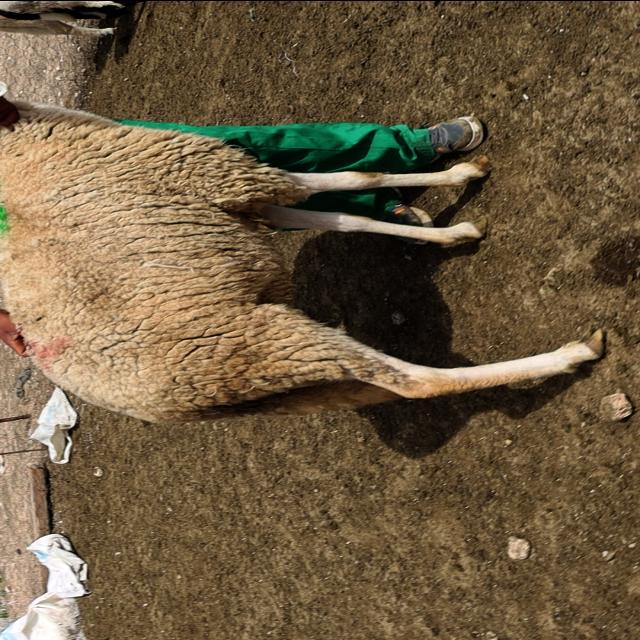Score_1: (0, 100, 603, 422)
